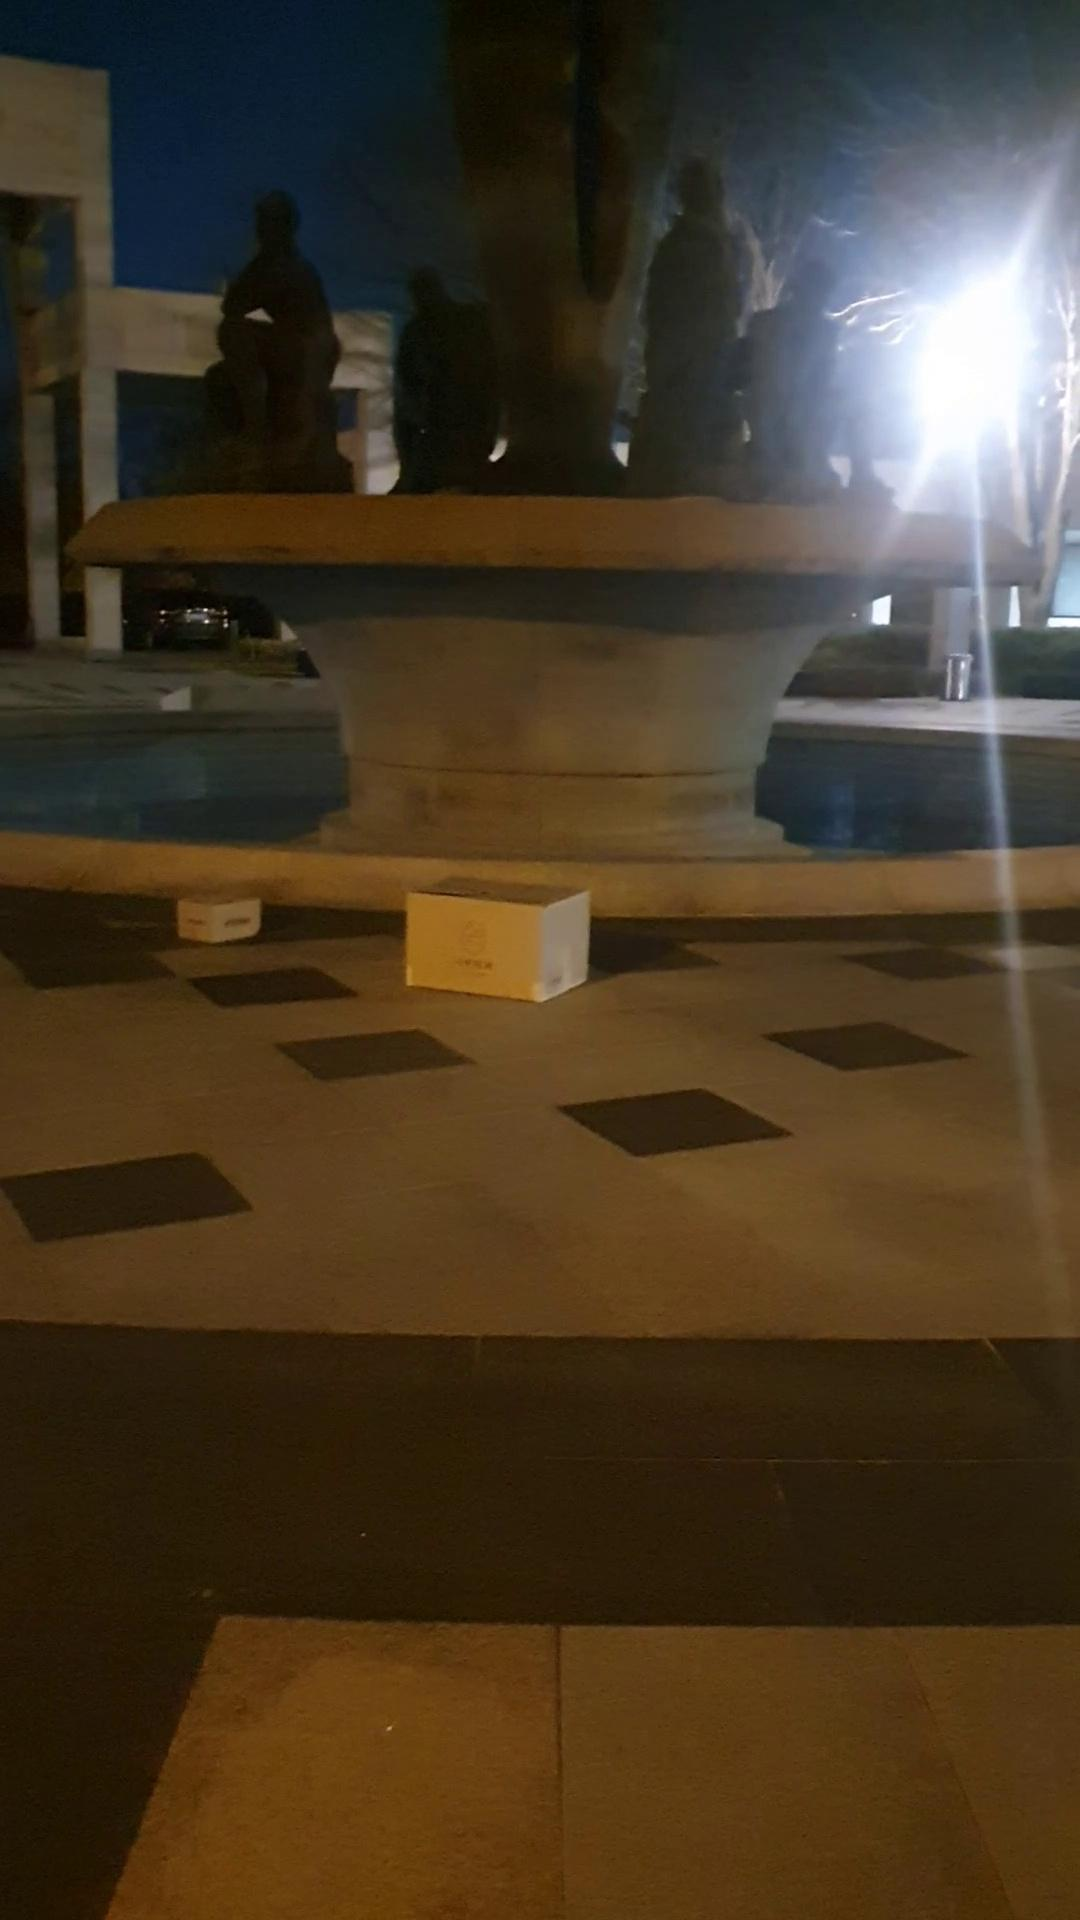Box: (404, 870, 592, 997), (171, 878, 268, 955)
